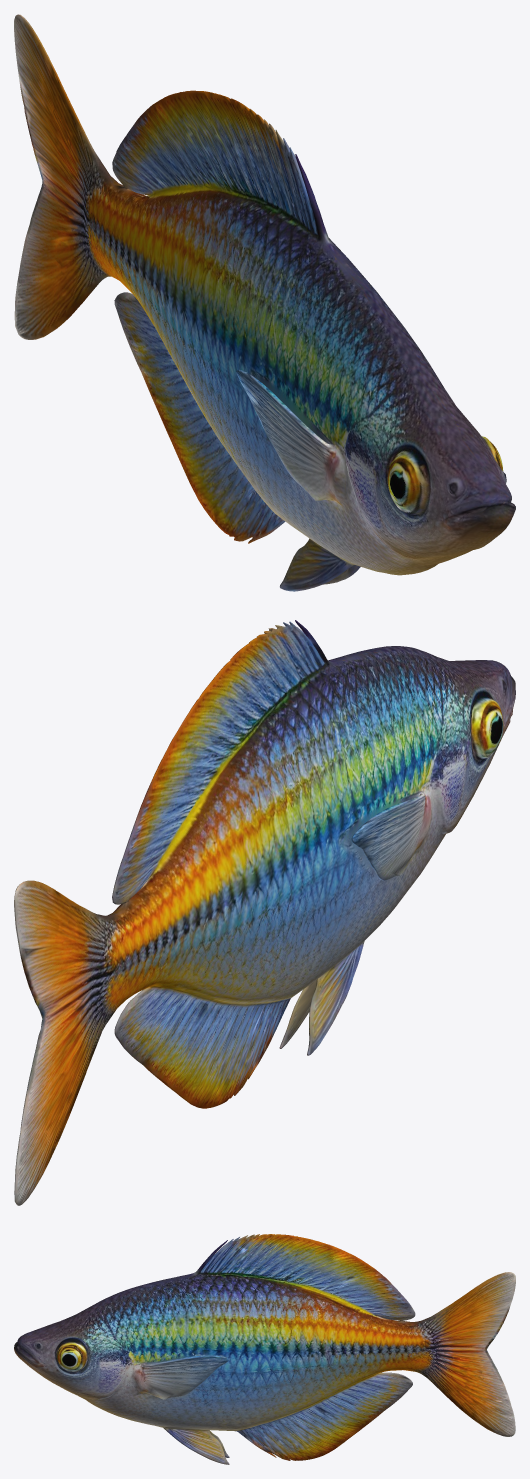
Rendered from rainbow.glb.
3 views of the same model, one above another, from view 1: azimuth 30°, elevation 25°; view 2: azimuth 150°, elevation 25°; view 3: azimuth 270°, elevation 25° (orthographic). The views are drawn at different scales.
Parts seen in each view (by area): view 1: Body; view 2: Body; view 3: Body.
Part boxes in pixels (x1,y1,x2,y2): Body: (14, 14, 515, 591); Body: (14, 620, 515, 1205); Body: (14, 1234, 515, 1464).
Bounding box in the file's own units: 0.078 × 0.27 × 0.5403.
1 material, 1 textured.
